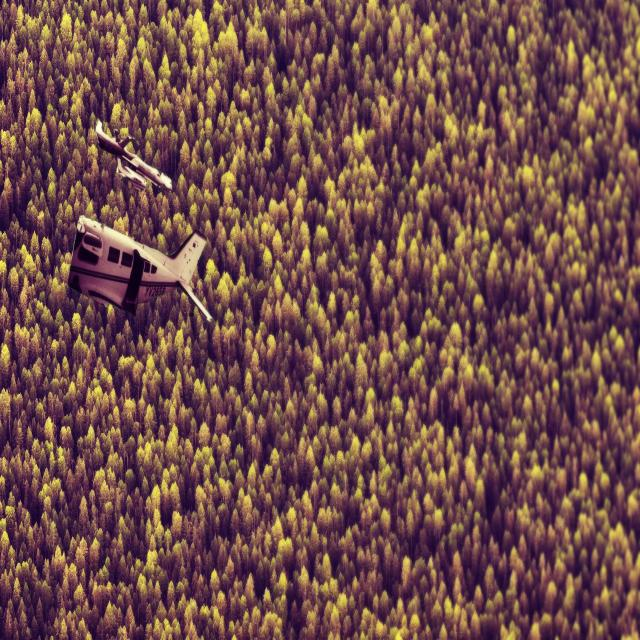airplane: (67, 214, 213, 323), (95, 119, 172, 193)
